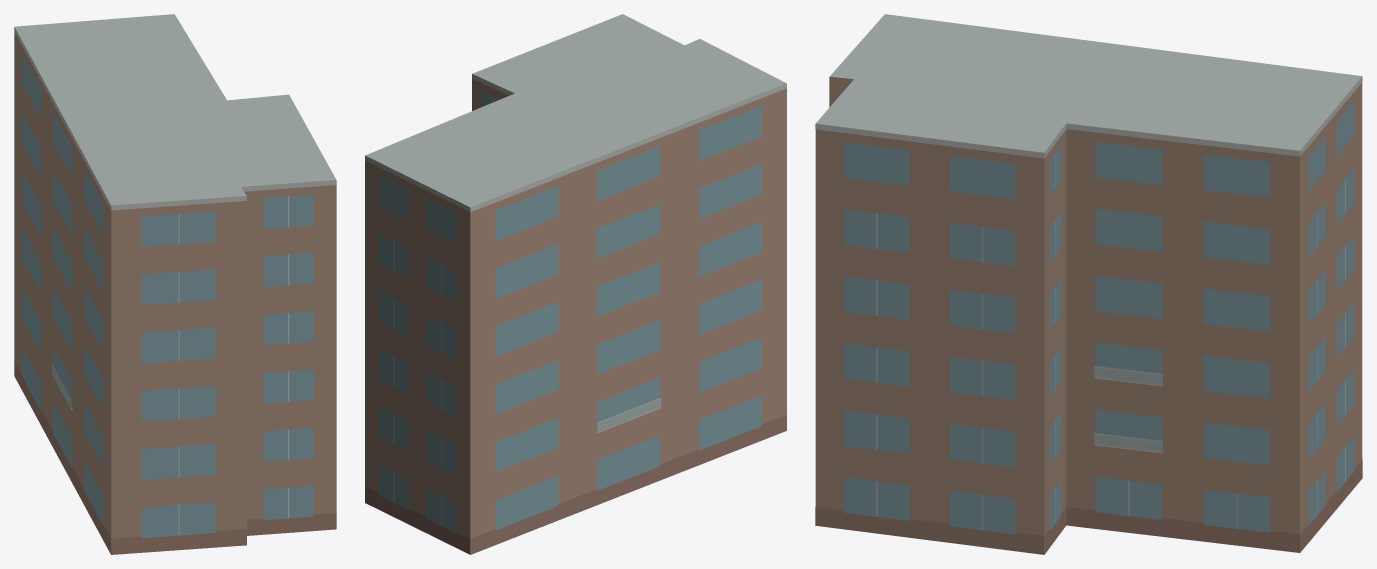
The model's file is survey-upis-32985201.glb.
3 views of the same model, side by side, from view 1: azimuth 30°, elevation 25°; view 2: azimuth 150°, elevation 25°; view 3: azimuth 270°, elevation 25° (orthographic). The views are drawn at different scales.
Parts seen in each view (by area): view 1: survey-upis-32985201.tmp; view 2: survey-upis-32985201.tmp; view 3: survey-upis-32985201.tmp.
Part boxes in pixels (box(x1,y1,x2,y2)): survey-upis-32985201.tmp: box(14, 14, 336, 554); survey-upis-32985201.tmp: box(365, 14, 786, 554); survey-upis-32985201.tmp: box(815, 14, 1362, 554).
Size of the model in its own units: 12.75 by 17.2 by 21.22.
